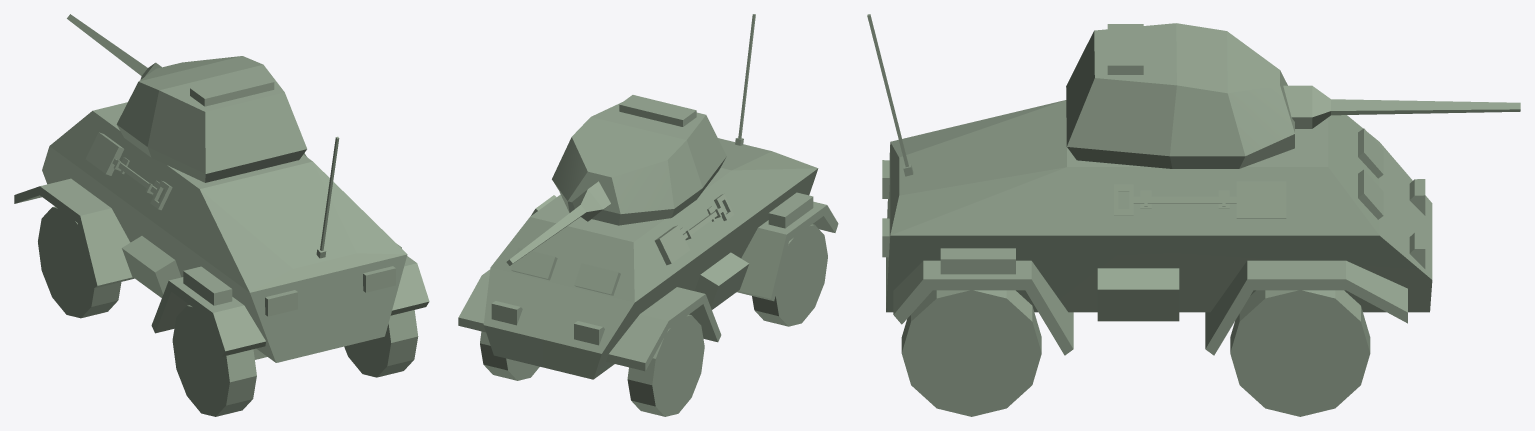
The model's file is armor_car_body.fbx.
The picture shows the model from 3 angles, left to right: view 1: azimuth 30°, elevation 25°; view 2: azimuth 150°, elevation 25°; view 3: azimuth 270°, elevation 25°; orthographic projection. The views are drawn at different scales.
Parts seen in each view (by area): view 1: armor_car_body, turret, wheel_rl, wheel_fl, wheel_rr, barrel; view 2: armor_car_body, turret, wheel_fl, wheel_rl, barrel, wheel_fr; view 3: armor_car_body, turret, wheel_fr, wheel_rr, barrel.
Boxes of the visible parts, x1,y1,x2,y2 form: armor_car_body: (14, 102, 429, 362); turret: (116, 56, 306, 182); wheel_rl: (172, 305, 256, 416); wheel_fl: (38, 206, 121, 318); wheel_rr: (344, 310, 418, 377); barrel: (67, 14, 161, 79); armor_car_body: (458, 14, 838, 379); turret: (552, 95, 726, 225); wheel_fl: (627, 314, 704, 416); wheel_rl: (752, 224, 827, 326); barrel: (506, 181, 610, 265); wheel_fr: (480, 331, 539, 380); armor_car_body: (867, 14, 1432, 355); turret: (1066, 23, 1294, 168); wheel_fr: (1230, 290, 1370, 416); wheel_rr: (901, 290, 1041, 416); barrel: (1283, 85, 1520, 128).
Size of the model in its own units: 3.41 by 4.54 by 7.76.
